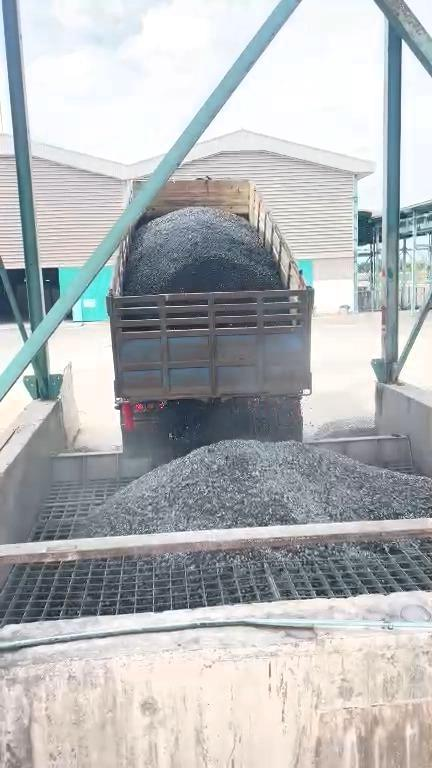gravel: (87, 441, 431, 535), (124, 207, 281, 295), (155, 540, 425, 574), (311, 416, 377, 440)
